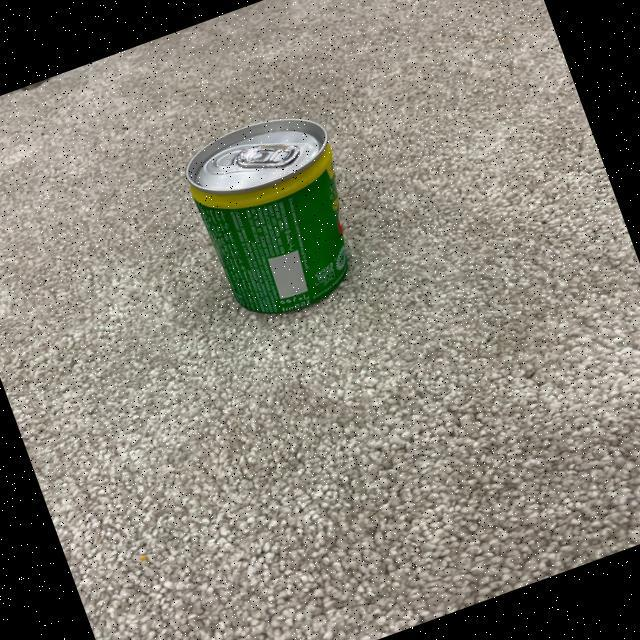debris: (168, 96, 388, 342)
